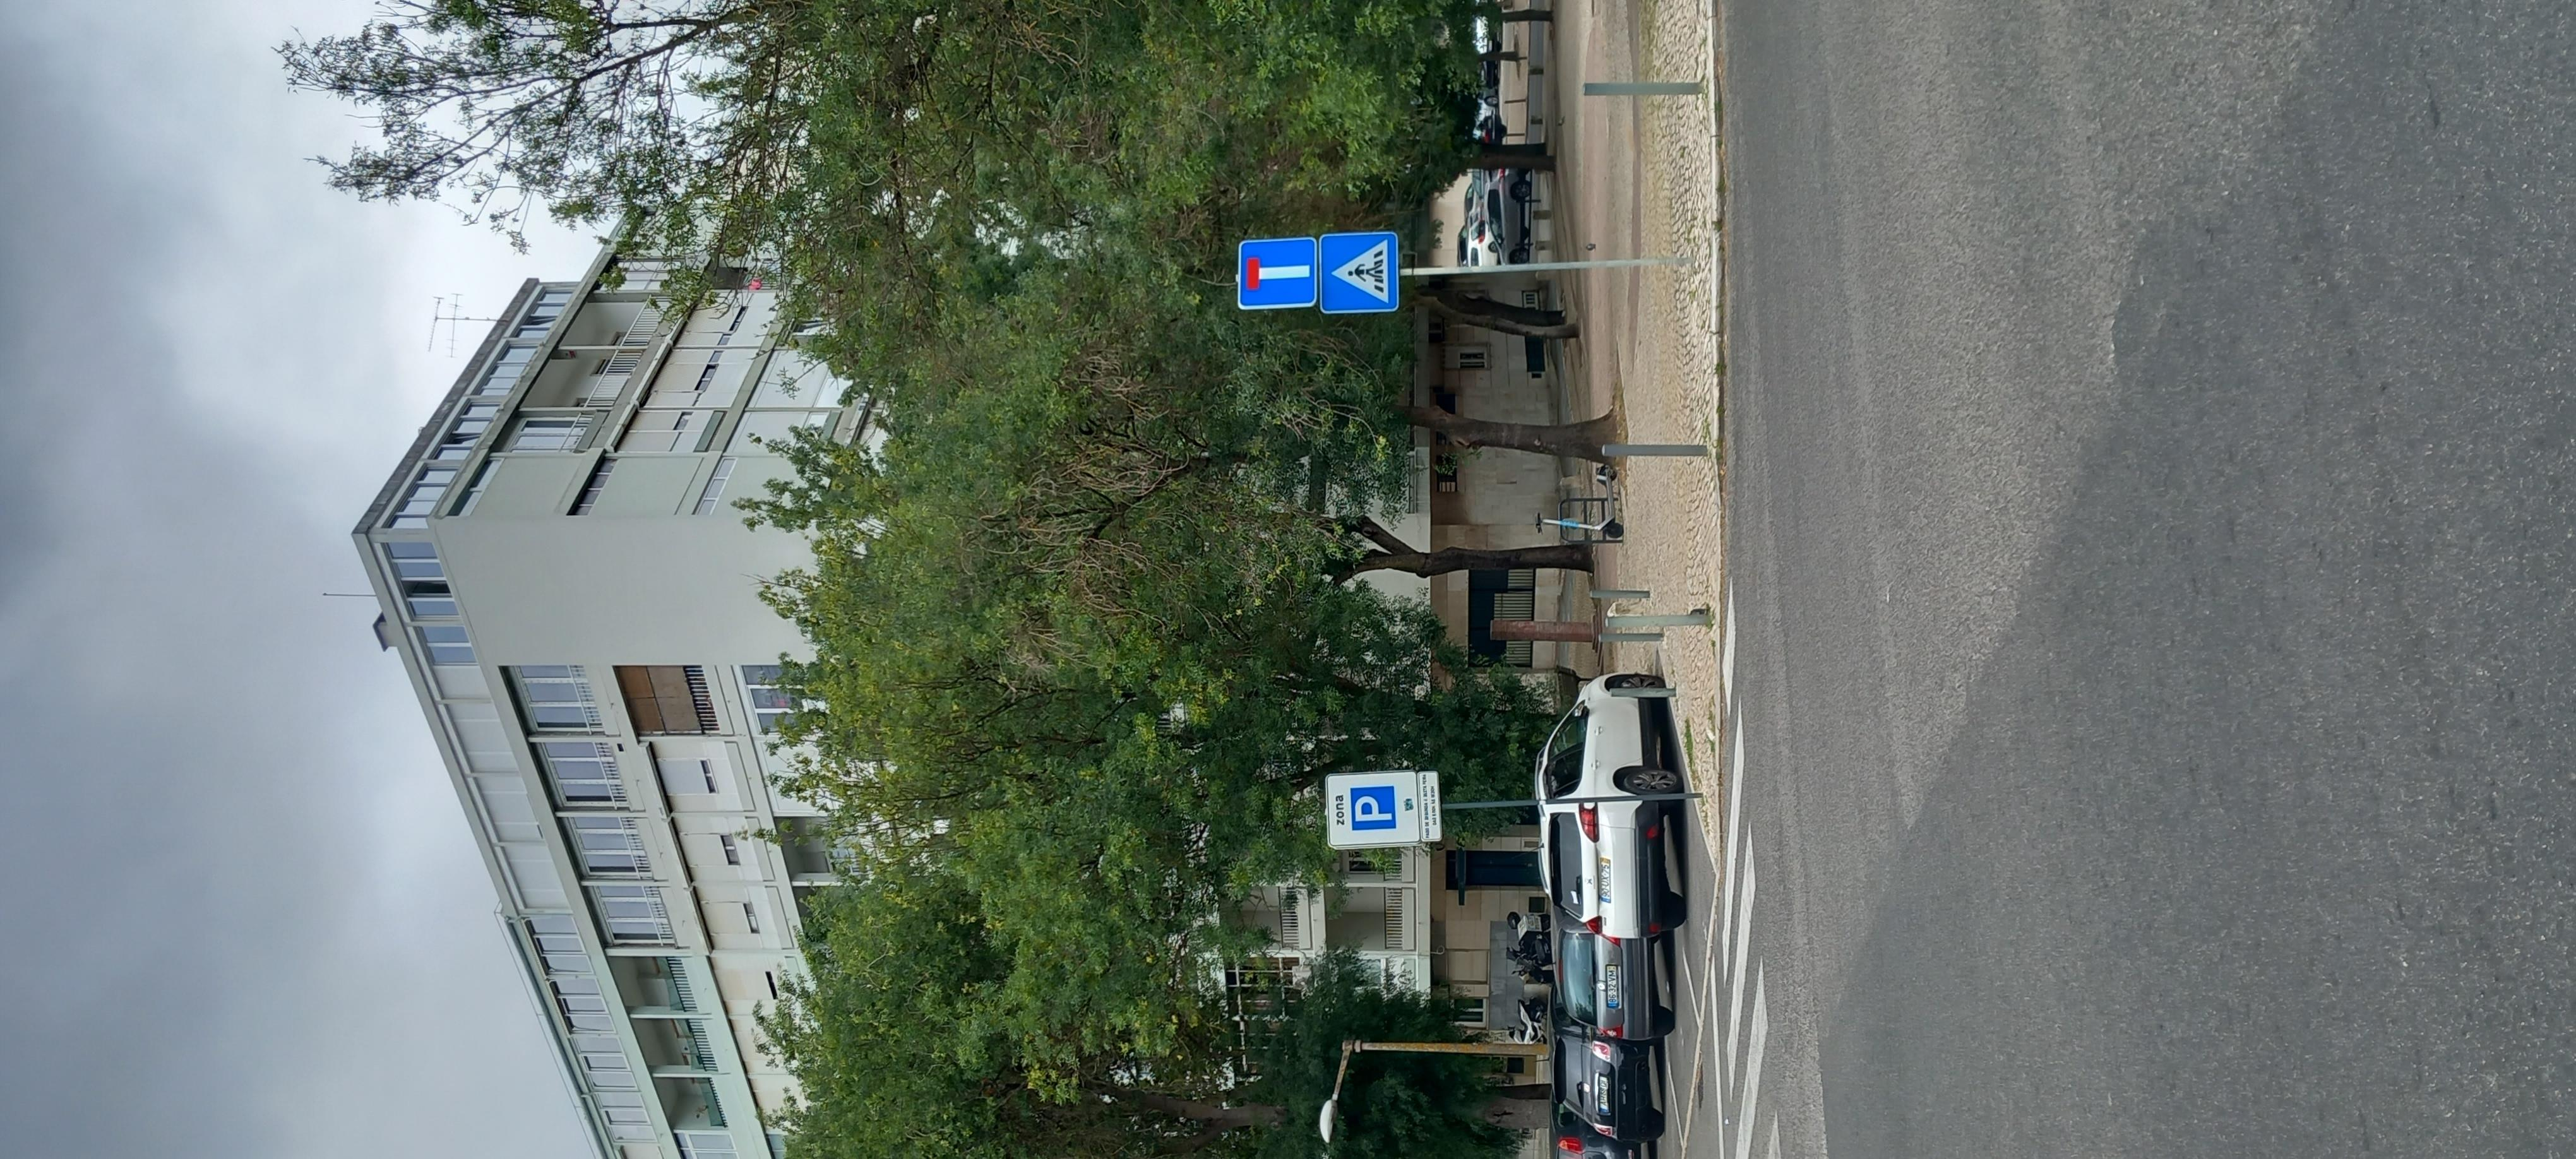passagem para peoes: (1873, 593, 2098, 635)
via publica sem saida: (1894, 553, 2062, 593)
zona de estacionamento autorizado: (701, 601, 856, 648)
